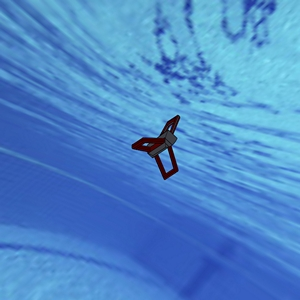submarine: (115, 100, 201, 195)
